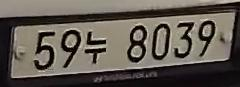0: (150, 21, 173, 62)
3: (173, 19, 196, 60)
5: (32, 29, 58, 72)
8: (125, 23, 150, 65)
9: (58, 27, 83, 69), (196, 17, 218, 59)
누: (83, 28, 110, 66)
